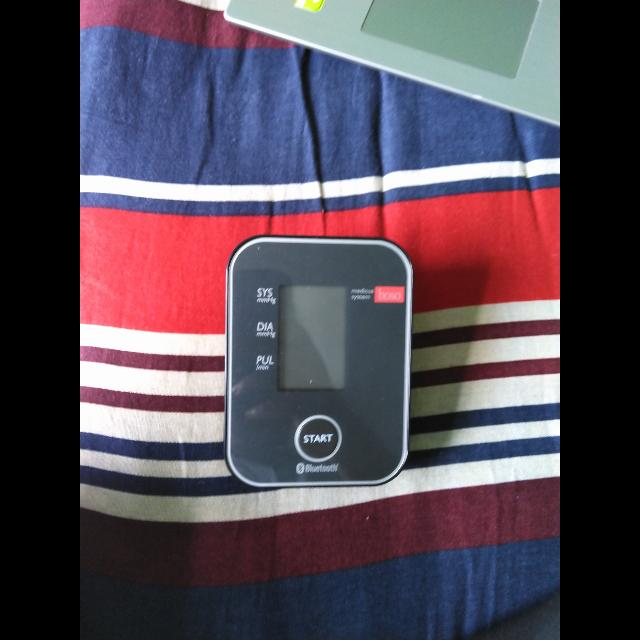Blood-Pressure-Monitor: (221, 230, 417, 488)
